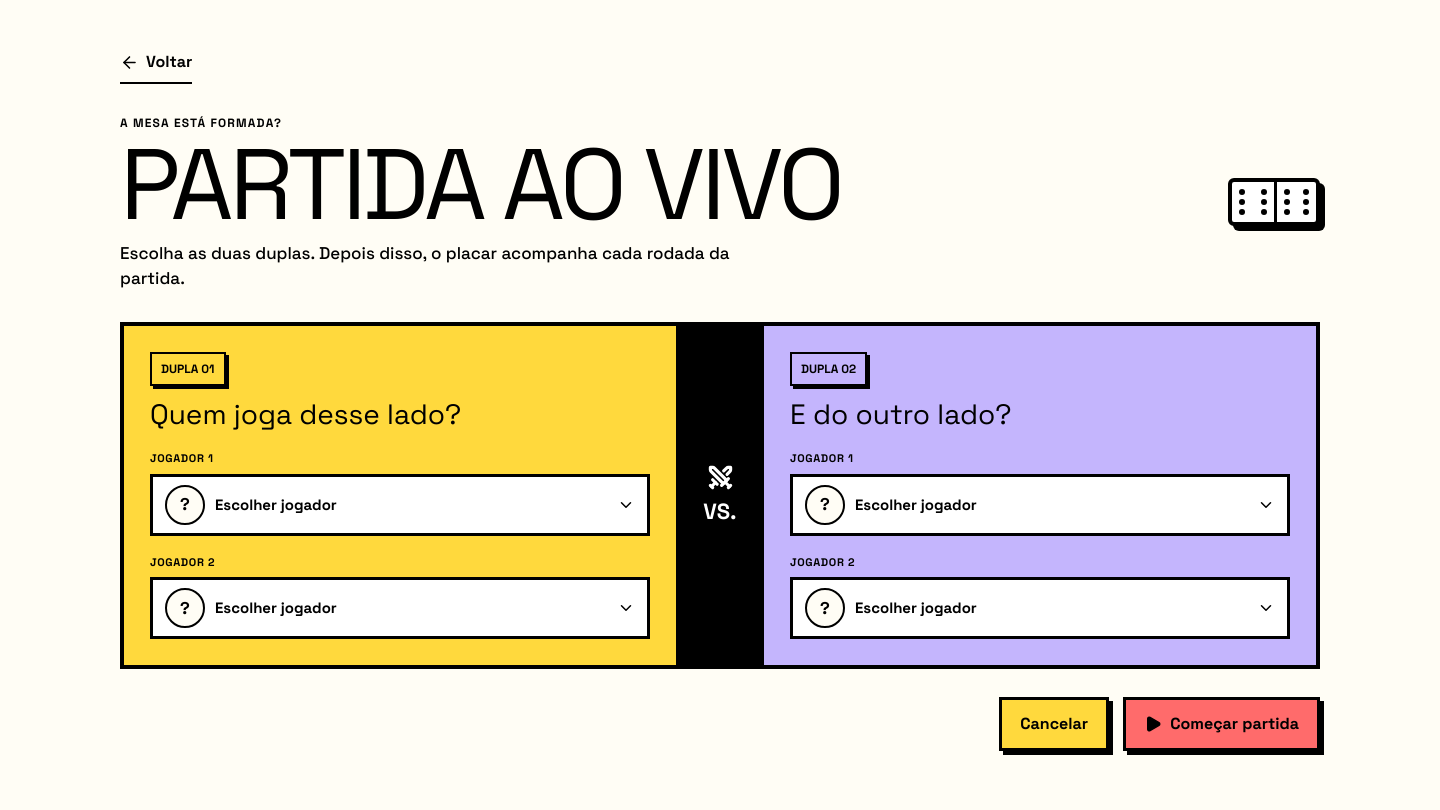
Scenario: LiveGameSetup › abre o seletor de jogadores em modal
Click the 1st button "? Escolher jogador" at (185, 505), box [150,474,650,536]
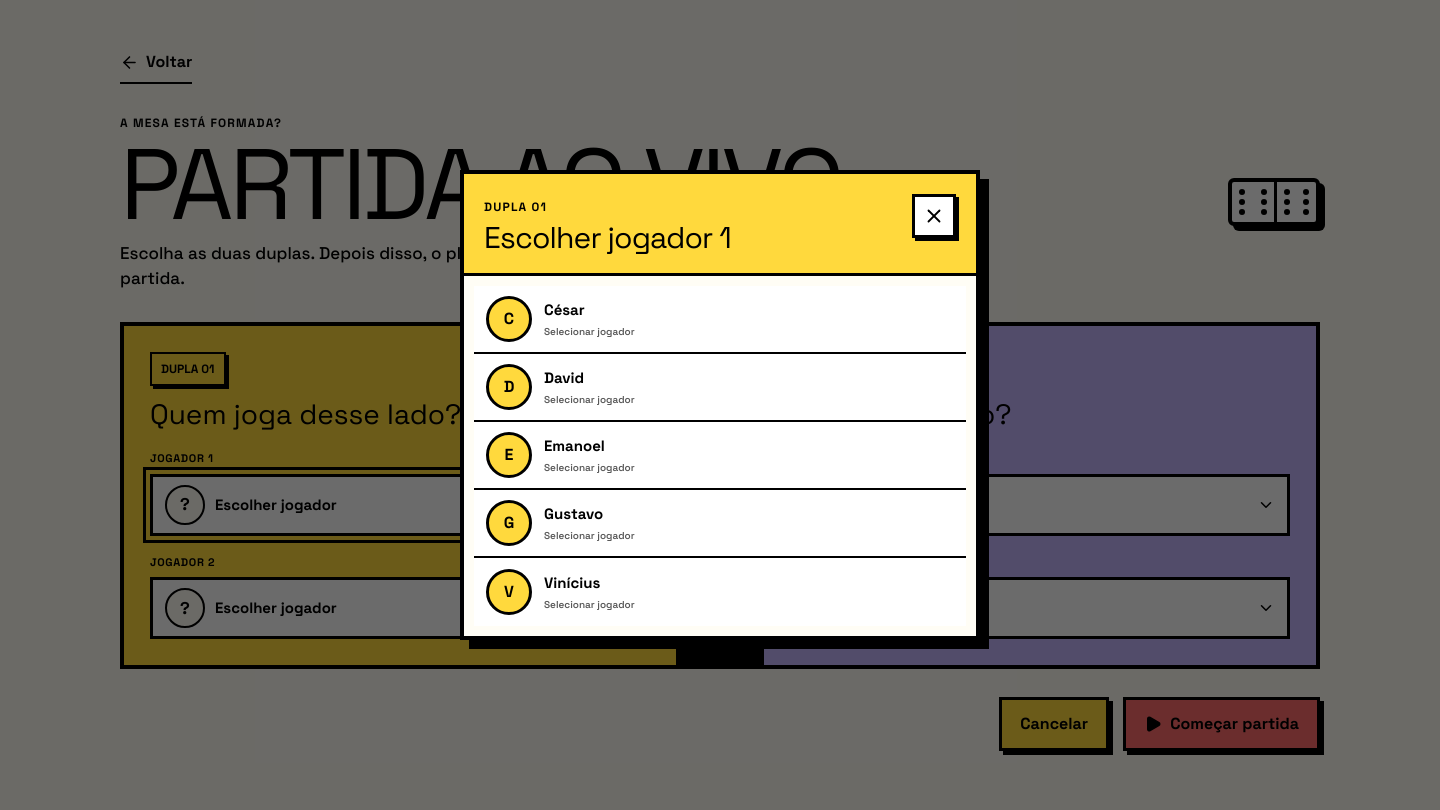
expect the dialog "Escolher jogador" is shown: met, box [460,170,980,640]
expect the heading "Escolher jogador 1" is shown: met, box [484,223,731,253]
